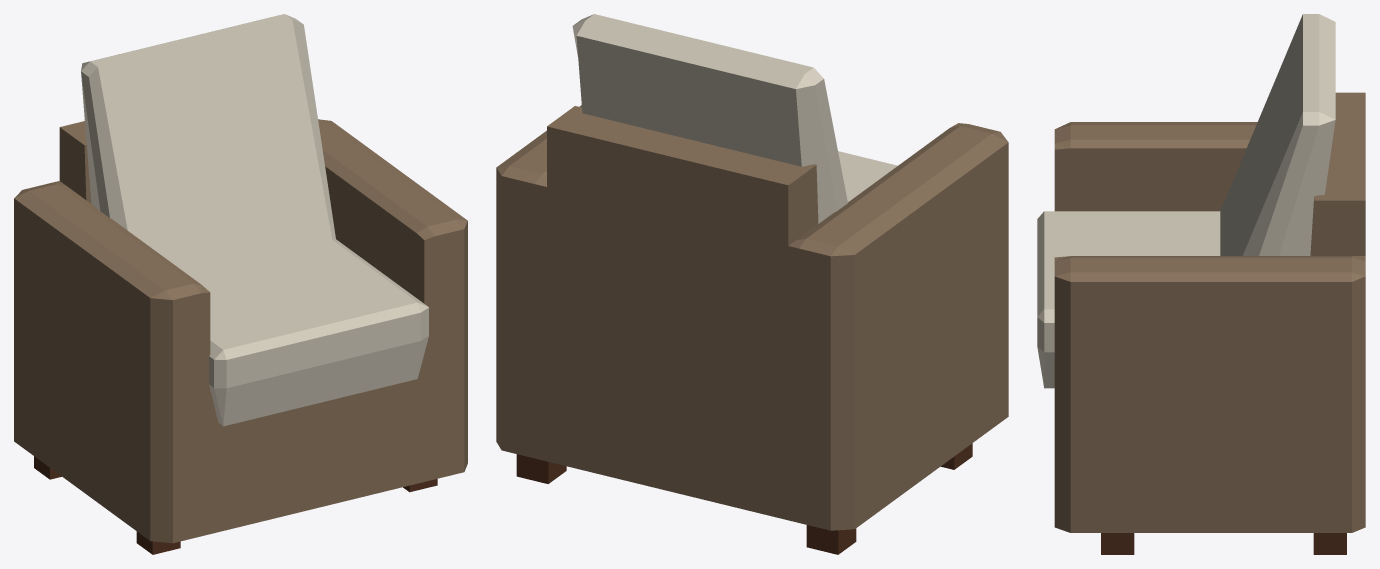
File: Couch_3A.fbx
3 views of the same model, side by side, from view 1: azimuth 30°, elevation 25°; view 2: azimuth 150°, elevation 25°; view 3: azimuth 270°, elevation 25° (orthographic). The views are drawn at different scales.
Visible parts, largest first — view 1: polySurface2344; view 2: polySurface2344; view 3: polySurface2344.
Part boxes in pixels (left/top/right/bottom): polySurface2344: left=14, top=14, right=467, bottom=554; polySurface2344: left=496, top=14, right=1008, bottom=554; polySurface2344: left=1037, top=14, right=1365, bottom=554.
Size of the model in its own units: 1.14 by 1.39 by 0.985.
1 material, 1 textured.
